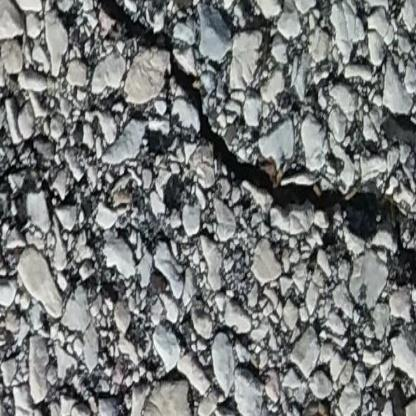Cracks: (86, 0, 416, 298)
